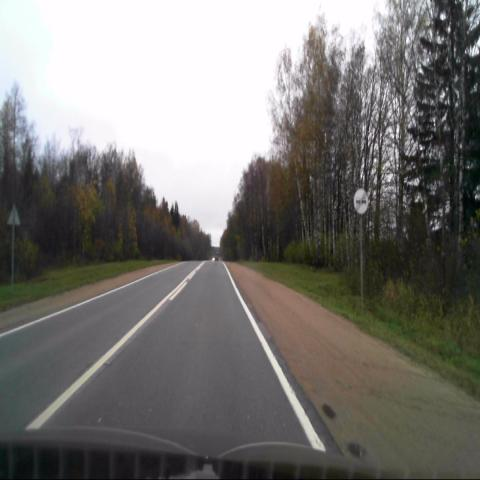3_21: (354, 187, 368, 215)
